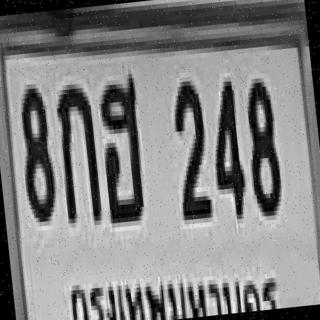A01: (52, 78, 100, 219)
A44: (94, 69, 148, 219)
N02: (168, 76, 211, 216)
N04: (205, 76, 247, 216)
N08: (13, 78, 56, 218), (240, 72, 282, 212)
P04: (66, 249, 283, 320)
